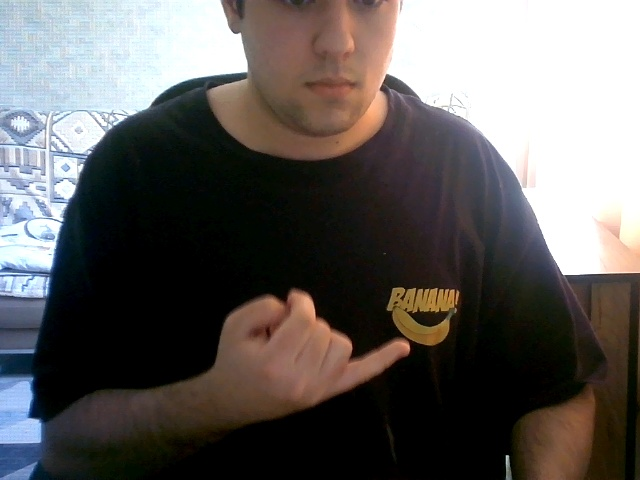bad: (205, 269, 419, 431)
